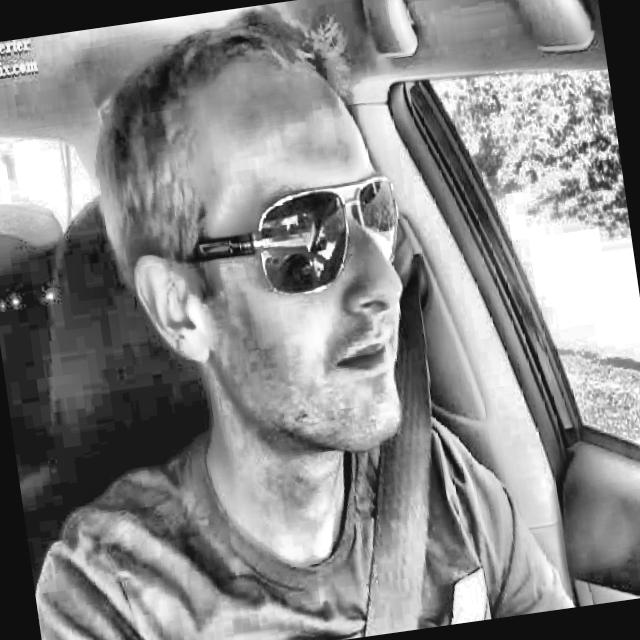closed_mouth: (308, 320, 420, 391)
